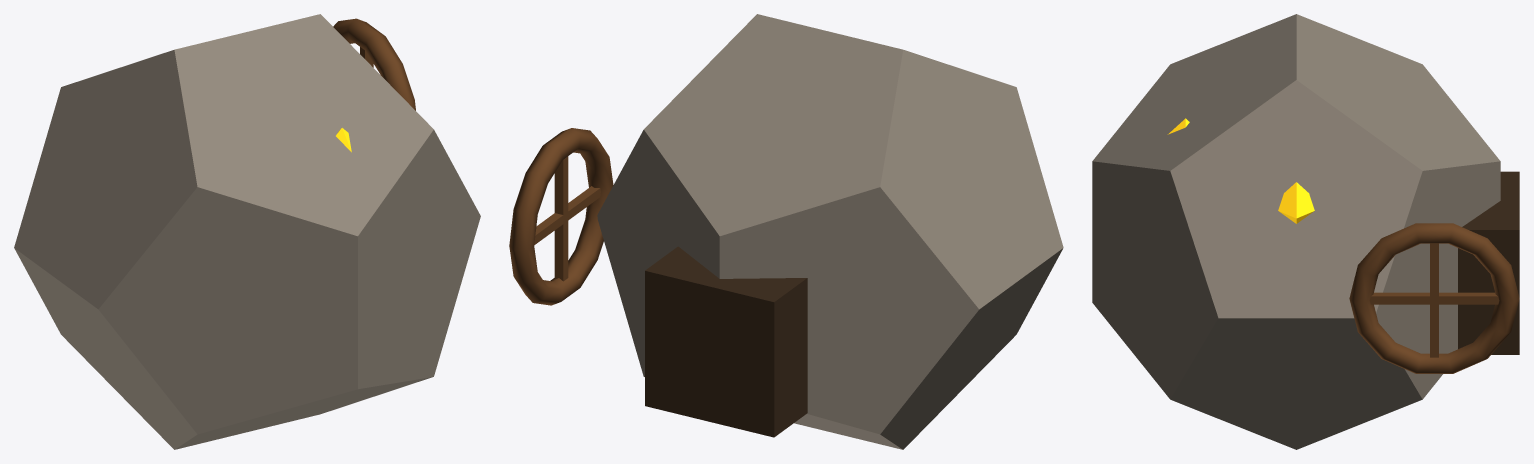
File: gold_mine.glb
3 views of the same model, side by side, from view 1: azimuth 30°, elevation 25°; view 2: azimuth 150°, elevation 25°; view 3: azimuth 270°, elevation 25° (orthographic). The views are drawn at different scales.
Parts seen in each view (by area): view 1: gold_mine_mound, gold_mine_wheelm; view 2: gold_mine_mound, gold_mine_entrance, gold_mine_wheelm, gold_mine_spokes, gold_mine_spokes2; view 3: gold_mine_mound, gold_mine_wheelm, gold_mine_entrance, gold_mine_spokes2, gold_mine_spokes, gold_mine_nugget0.
Boxes of the visible parts, bbox=[...] form: gold_mine_mound: bbox=[14, 14, 480, 449]; gold_mine_wheelm: bbox=[333, 18, 415, 110]; gold_mine_mound: bbox=[597, 14, 1063, 449]; gold_mine_entrance: bbox=[645, 246, 807, 437]; gold_mine_wheelm: bbox=[509, 128, 613, 305]; gold_mine_spokes: bbox=[554, 156, 568, 281]; gold_mine_spokes2: bbox=[534, 186, 600, 244]; gold_mine_mound: bbox=[1092, 14, 1500, 449]; gold_mine_wheelm: bbox=[1349, 223, 1519, 373]; gold_mine_entrance: bbox=[1458, 171, 1519, 354]; gold_mine_spokes2: bbox=[1369, 292, 1499, 304]; gold_mine_spokes: bbox=[1430, 243, 1438, 357]; gold_mine_nugget0: bbox=[1278, 182, 1314, 223].
Bounding box in the file's own units: 1.83 × 1.77 × 1.86.
